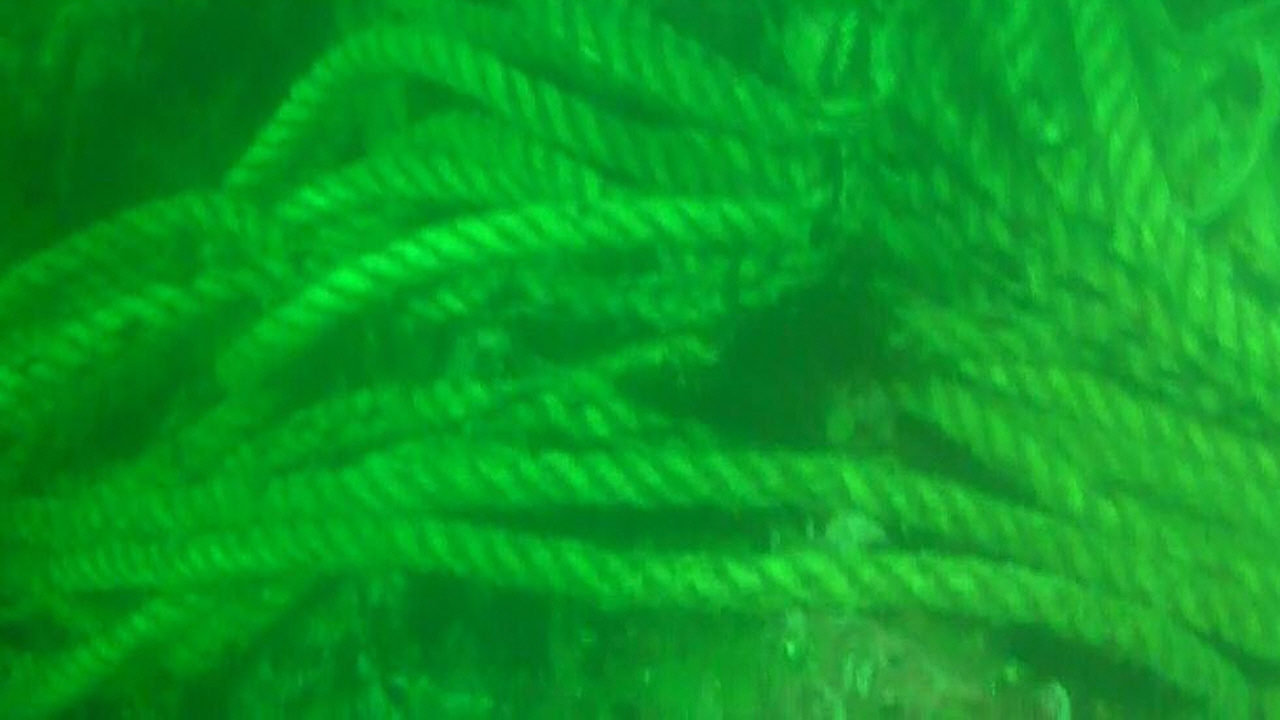bundle of ropes: (0, 1, 1280, 720)
